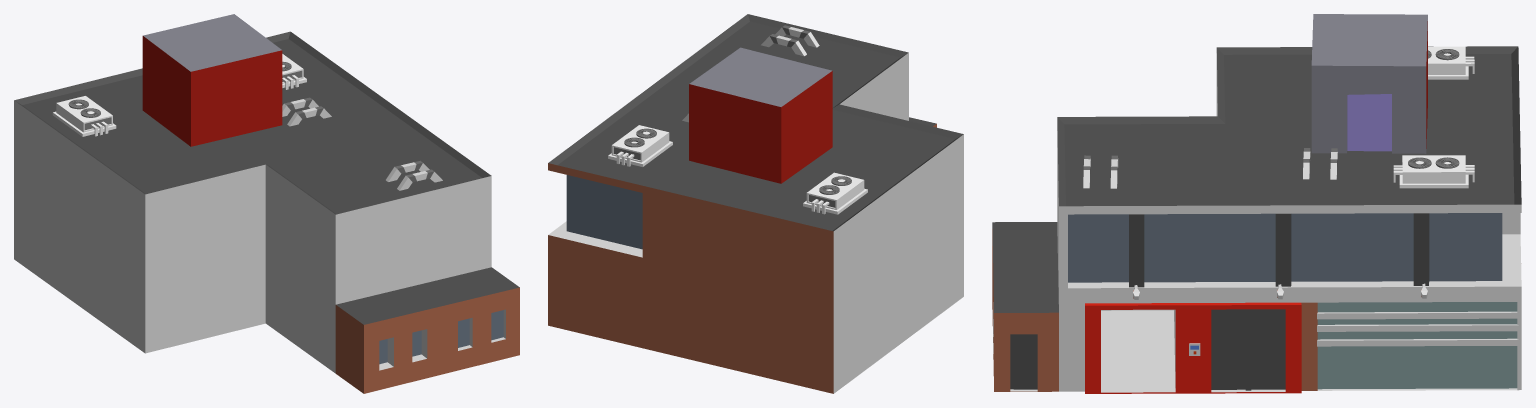
Rendered from Fire_bridge.glb.
3 views of the same model, side by side, from view 1: azimuth 30°, elevation 25°; view 2: azimuth 150°, elevation 25°; view 3: azimuth 270°, elevation 25° (orthographic). The views are drawn at different scales.
Visible parts, largest first — view 1: Main_Body, Cube.6174, Cube.14605, Cube.14606, Cube.6900; view 2: Main_Body, Cube.6174, Cube.14606, Cube.14605, Cube.6901, Cube.6900; view 3: Main_Body, Cube.6174, orbington fire station london.001, Cube.14606, Cube.630, Cube.629, Cube.631, Cube.14605, Cube.6178, Cube.6179, Cube.6177.
Boxes of the visible parts, box(x1,y1,x2,y2) form: Main_Body: box(14, 31, 519, 393); Cube.6174: box(142, 14, 282, 146); Cube.14605: box(52, 96, 116, 136); Cube.14606: box(282, 54, 306, 89); Cube.6900: box(397, 169, 442, 190); Main_Body: box(548, 14, 963, 393); Cube.6174: box(689, 47, 832, 183); Cube.14606: box(608, 125, 672, 166); Cube.14605: box(803, 172, 867, 214); Cube.6901: box(761, 34, 806, 56); Cube.6900: box(775, 25, 819, 47); Main_Body: box(992, 46, 1521, 393); Cube.6174: box(1311, 14, 1427, 153); orbington fire station london.001: box(1211, 309, 1285, 390); Cube.14606: box(1393, 155, 1474, 188); Cube.630: box(1317, 324, 1518, 331); Cube.629: box(1317, 311, 1518, 319); Cube.631: box(1317, 338, 1518, 346); Cube.14605: box(1428, 46, 1474, 79); Cube.6178: box(1275, 213, 1291, 286); Cube.6179: box(1413, 213, 1429, 285); Cube.6177: box(1129, 214, 1144, 287).
Bounding box in the file's own units: 0.3365 × 0.2446 × 0.437.
